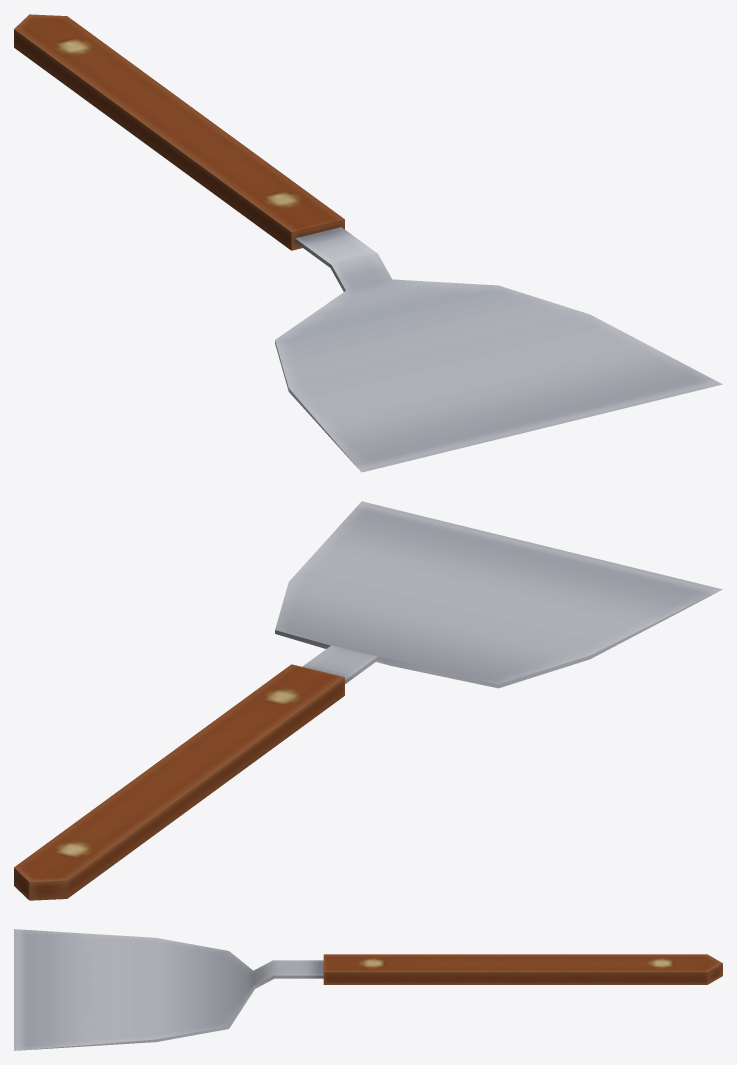
Rendered from jsf_Spatula_02.fbx.
The picture shows the model from 3 angles, top to bottom: view 1: azimuth 30°, elevation 25°; view 2: azimuth 150°, elevation 25°; view 3: azimuth 270°, elevation 25°; orthographic projection. The views are drawn at different scales.
Visible parts, largest first — view 1: jsf_Spatula_02; view 2: jsf_Spatula_02; view 3: jsf_Spatula_02.
Part boxes in pixels (x1=…): jsf_Spatula_02: x1=14, y1=14, x2=722, y2=472; jsf_Spatula_02: x1=14, y1=501, x2=722, y2=900; jsf_Spatula_02: x1=14, y1=929, x2=722, y2=1050.
Size of the model in its own units: 9.88 by 1.06 by 24.28.
